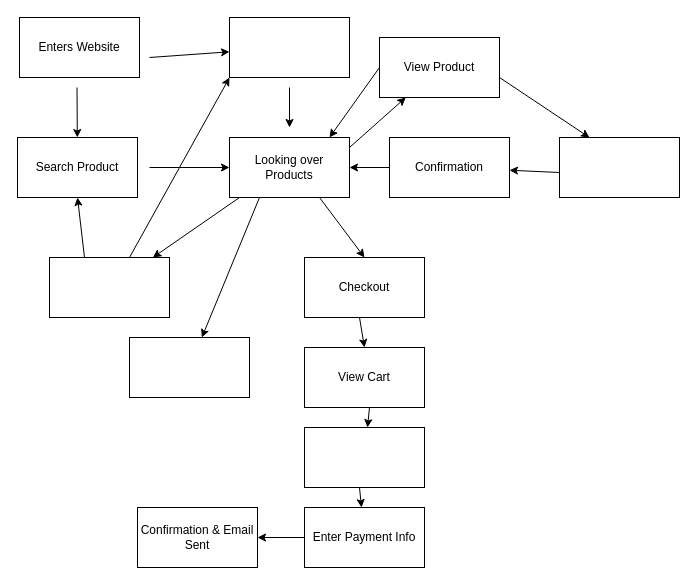
The diagram is 697 pixels wide and 585 high, and some of its shapes have lost their labels. Here are the shapes that lost their labels. From the top down, the centre of each, then its label:
[289,47]: Check Home Page
[619,167]: Add to Cart
[109,287]: Continue Shopping
[189,367]: Leave Website
[364,457]: VIew Payment
